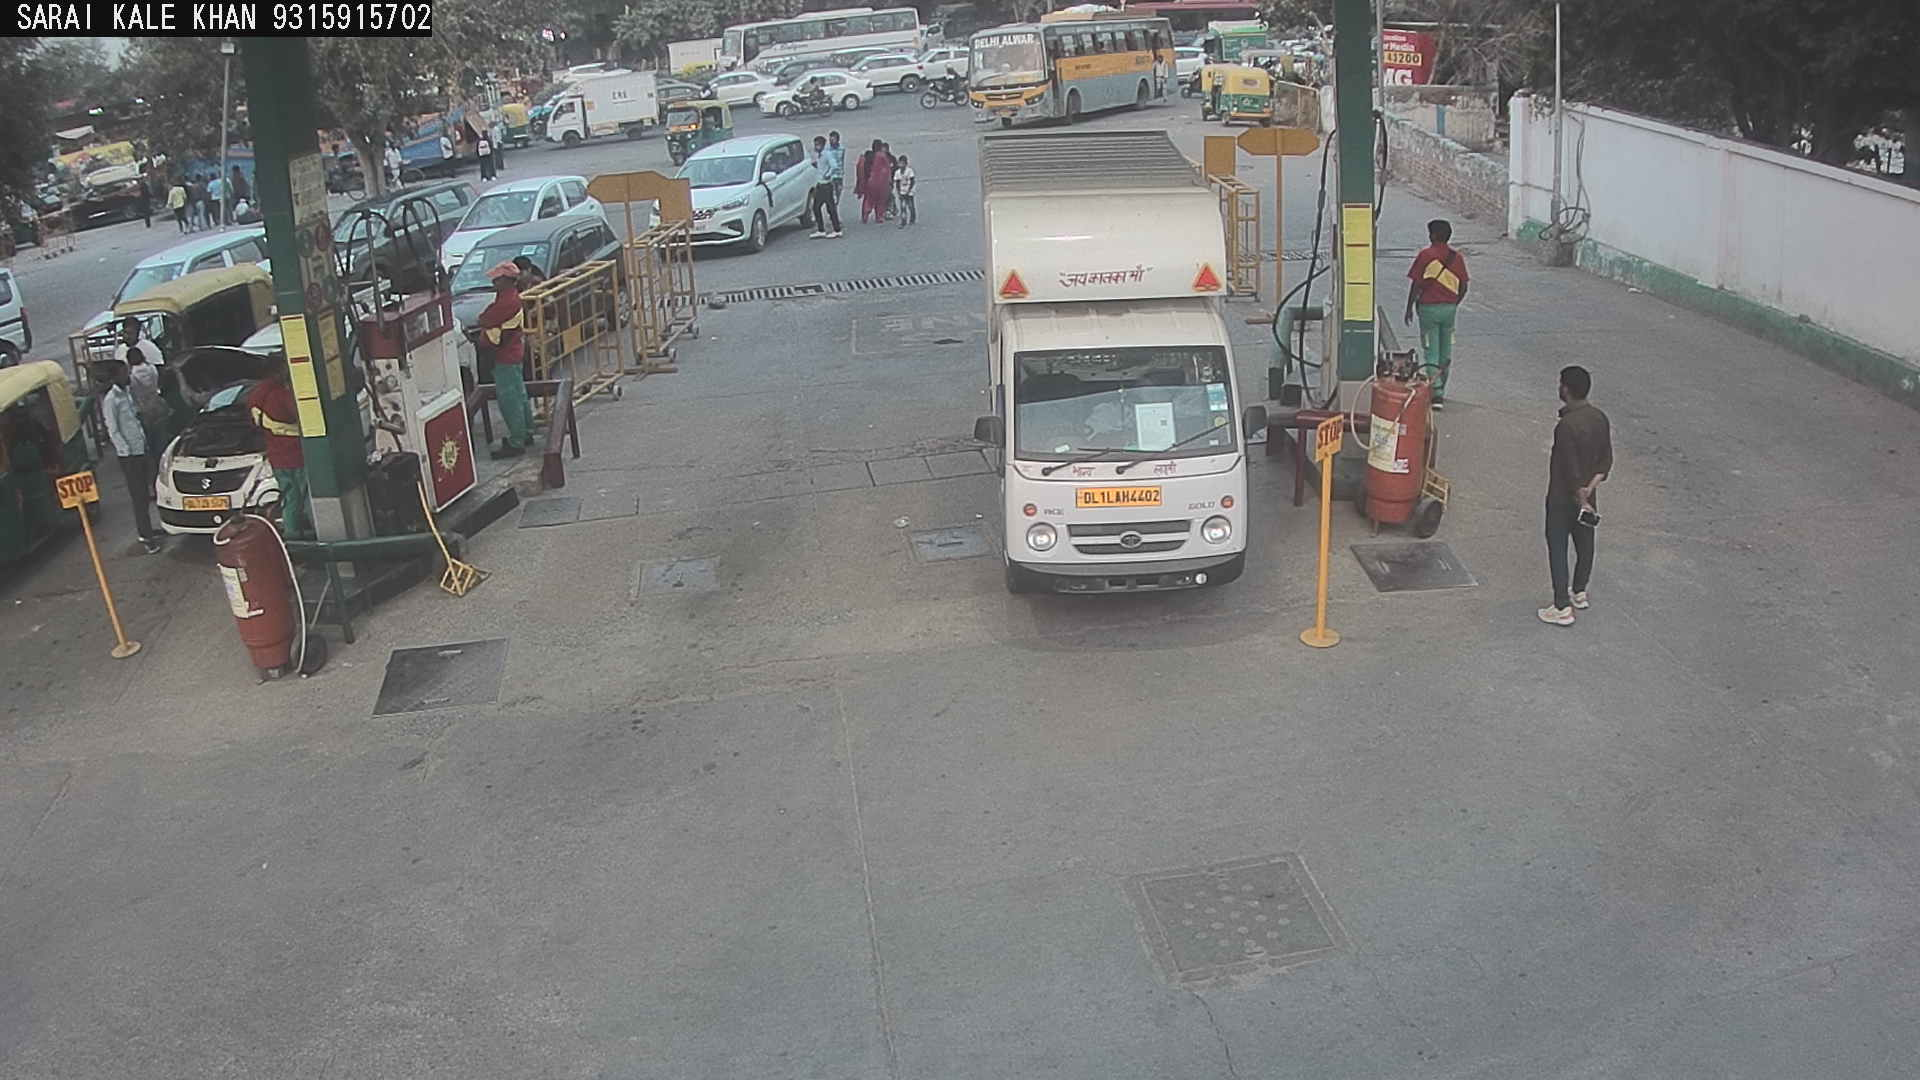Auto: (84, 253, 281, 485), (1, 349, 113, 607), (654, 90, 746, 175), (1207, 53, 1292, 137), (1178, 55, 1247, 128)
Bike: (909, 65, 982, 123), (762, 74, 845, 123)
Car: (129, 307, 330, 574), (415, 196, 651, 413), (55, 214, 282, 393), (622, 120, 841, 264), (415, 166, 617, 302), (309, 164, 485, 316), (752, 62, 881, 127), (0, 253, 46, 382), (684, 66, 785, 113), (843, 45, 924, 102), (899, 34, 976, 92)
HMV: (957, 113, 1273, 640), (963, 1, 1185, 137), (533, 61, 661, 166)
Others: (1400, 210, 1482, 419), (464, 248, 537, 473)
Others Other: (1287, 401, 1358, 663), (50, 462, 144, 661)
